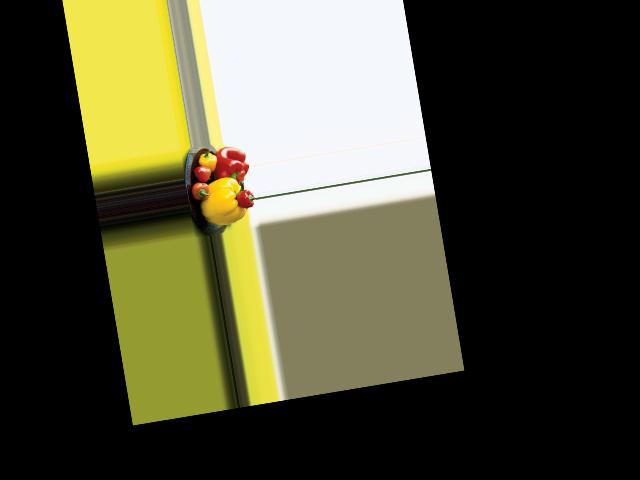bell_pepper: (197, 149, 219, 171)
